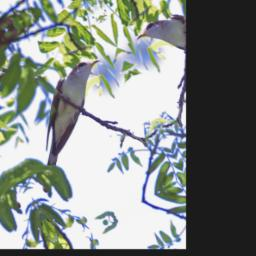Cuckoo: (0, 53, 142, 194)
